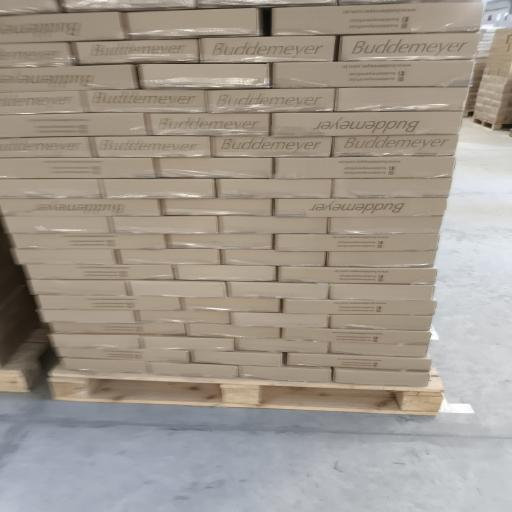pallet: (49, 366, 443, 415), (0, 330, 48, 392), (473, 116, 510, 130), (463, 109, 474, 117)
